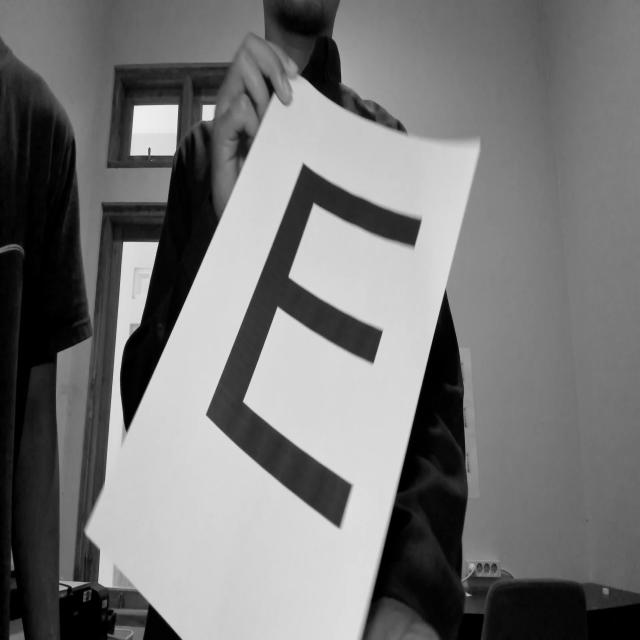e: (194, 136, 428, 564)
